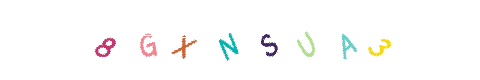3: (340, 0, 420, 80)
8: (100, 0, 180, 80)
A: (275, 0, 355, 80)
G: (112, 0, 192, 80)
N: (200, 0, 280, 80)
S: (229, 0, 309, 80)
U: (265, 0, 345, 80)
X: (188, 0, 268, 80)
